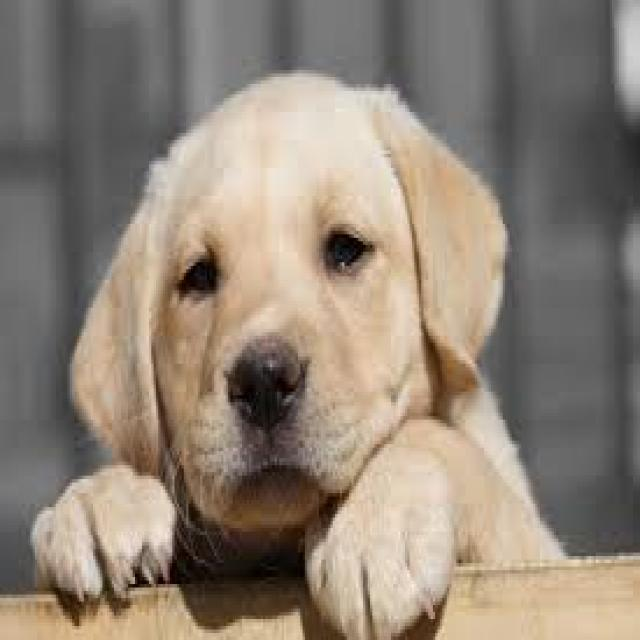dog: (33, 74, 570, 640)
